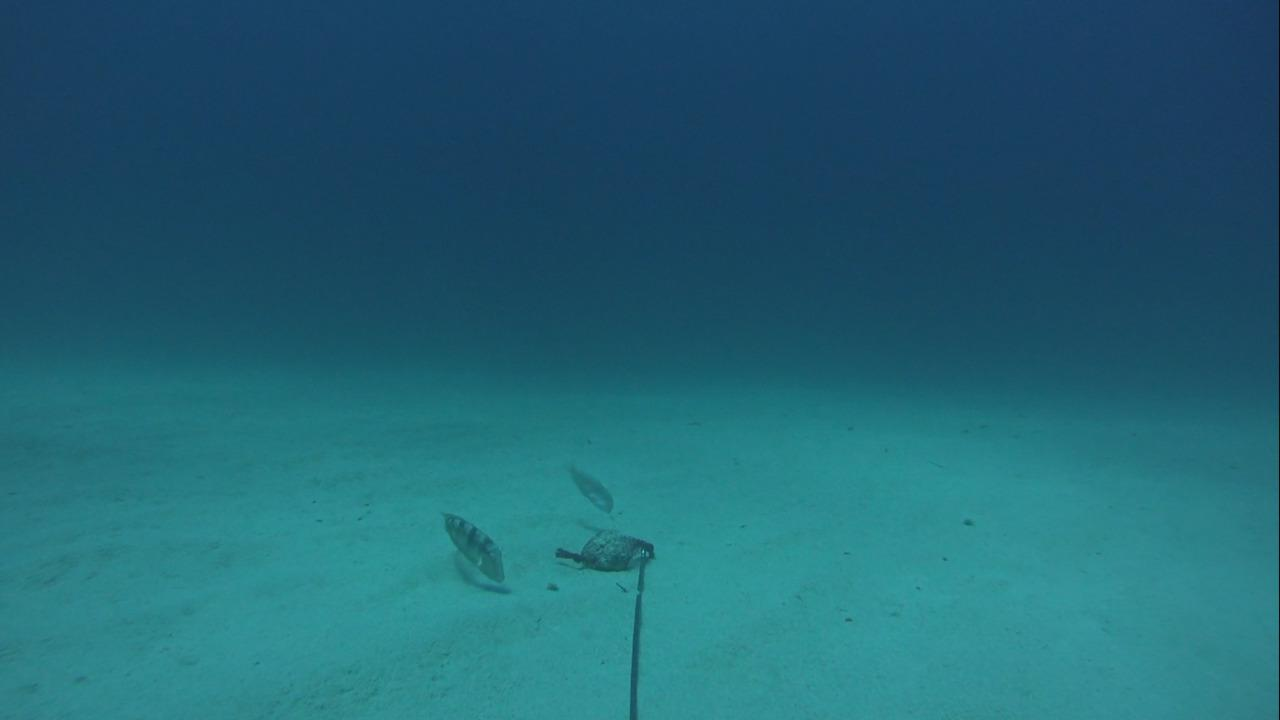raor: (432, 501, 510, 588), (558, 460, 613, 512)
